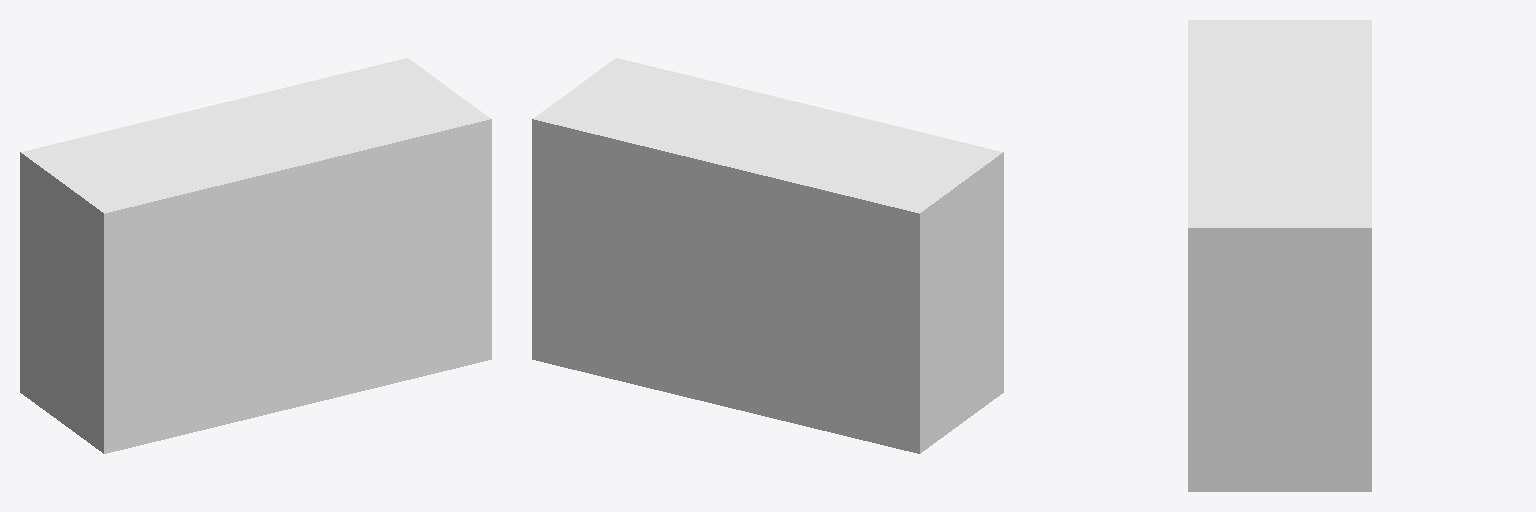
URDF robot description (box.urdf):
<?xml version="0.0" ?>
<robot name="box.urdf">
  <link name="baseLink">
    <contact>
      <lateral_friction value="0.5"/>
      <rolling_friction value="0.0"/>
      <contact_cfm value="0.0"/>
      <contact_erp value="1.0"/>
    </contact>
    <inertial>
      <origin rpy="0 0 0" xyz="0 0 0"/>
       <mass value=".01"/>
       <inertia ixx="1" ixy="0" ixz="0" iyy="1" iyz="0" izz="1"/>
    </inertial>
    <visual>
      <origin rpy="0 0 0" xyz="0 0 0"/>
      <geometry>
				<mesh filename="box.obj" scale="0.16 0.06 0.095"/>
      </geometry>
       <material name="white">
        <color rgba="1 1 1 1"/>
      </material>
    </visual>
    <collision>
      <origin rpy="0 0 0" xyz="0 0 0"/>
      <geometry>
	 	<box size="0.16 0.06 0.095"/>
      </geometry>
    </collision>
  </link>
</robot>

--- What the picture shows (computed from the rendered views, not written in the file) ---
3 views of the same robot in one strip: view 1: azimuth 30°, elevation 25°; view 2: azimuth 150°, elevation 25°; view 3: azimuth 270°, elevation 25° (orthographic).
Model box.urdf with 1 links and 0 joints (none), rooted at baseLink, posed every joint at zero.
Links seen in each view (by area): view 1: baseLink; view 2: baseLink; view 3: baseLink.
Link boxes in pixels (bbox=[...]): baseLink: bbox=[20, 58, 491, 453]; baseLink: bbox=[532, 58, 1003, 453]; baseLink: bbox=[1188, 20, 1371, 491].
Size in the robot's own frame: 0.16 by 0.06 by 0.095 metres.
1 mesh visuals loaded from 1 distinct referenced files (1 OBJ).